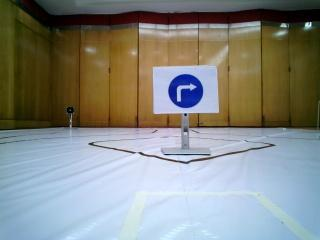right: (156, 67, 216, 114)
